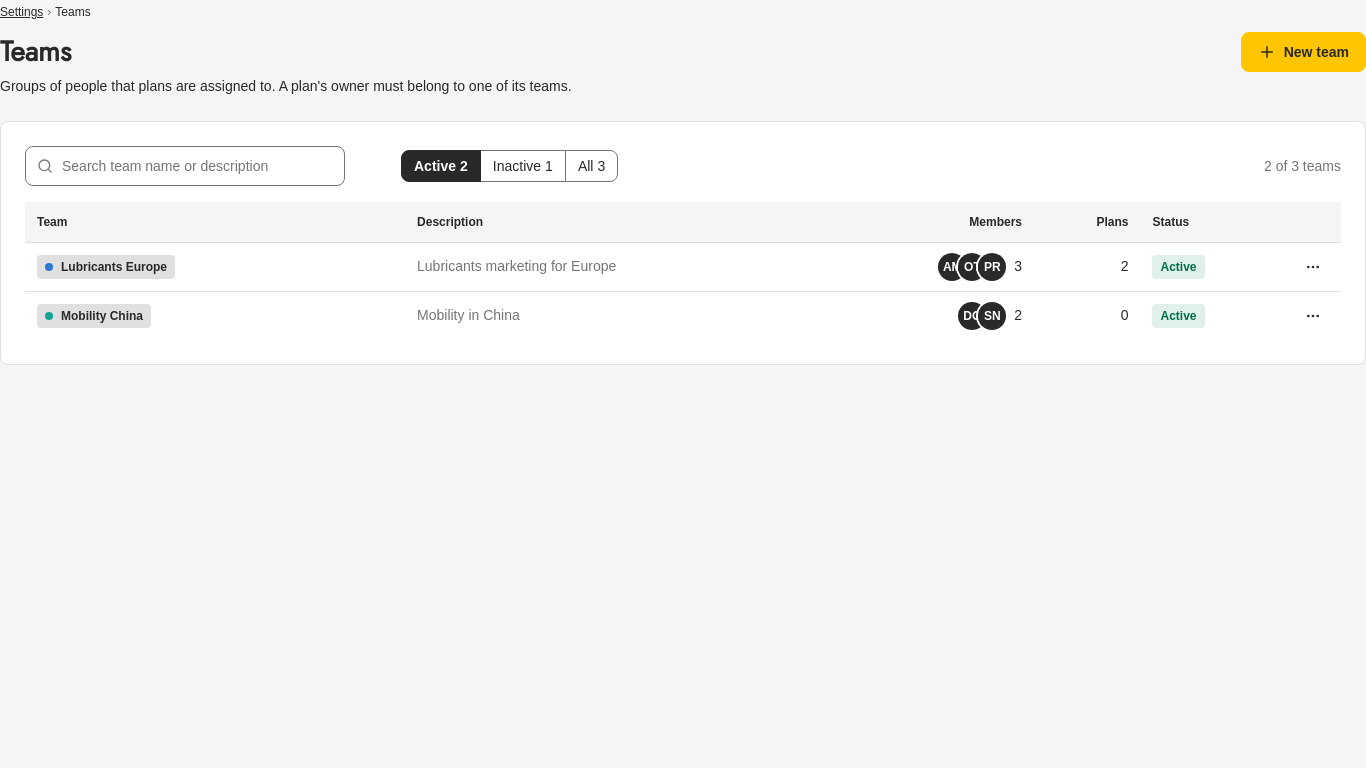
Test: TeamsPage (feature 003, US2): New team and Edit team › shows a taken name at the field and in the summary (US2-4)
Click the button named "Actions for Mobility China" at (1313, 316), box [1297, 300, 1329, 332]
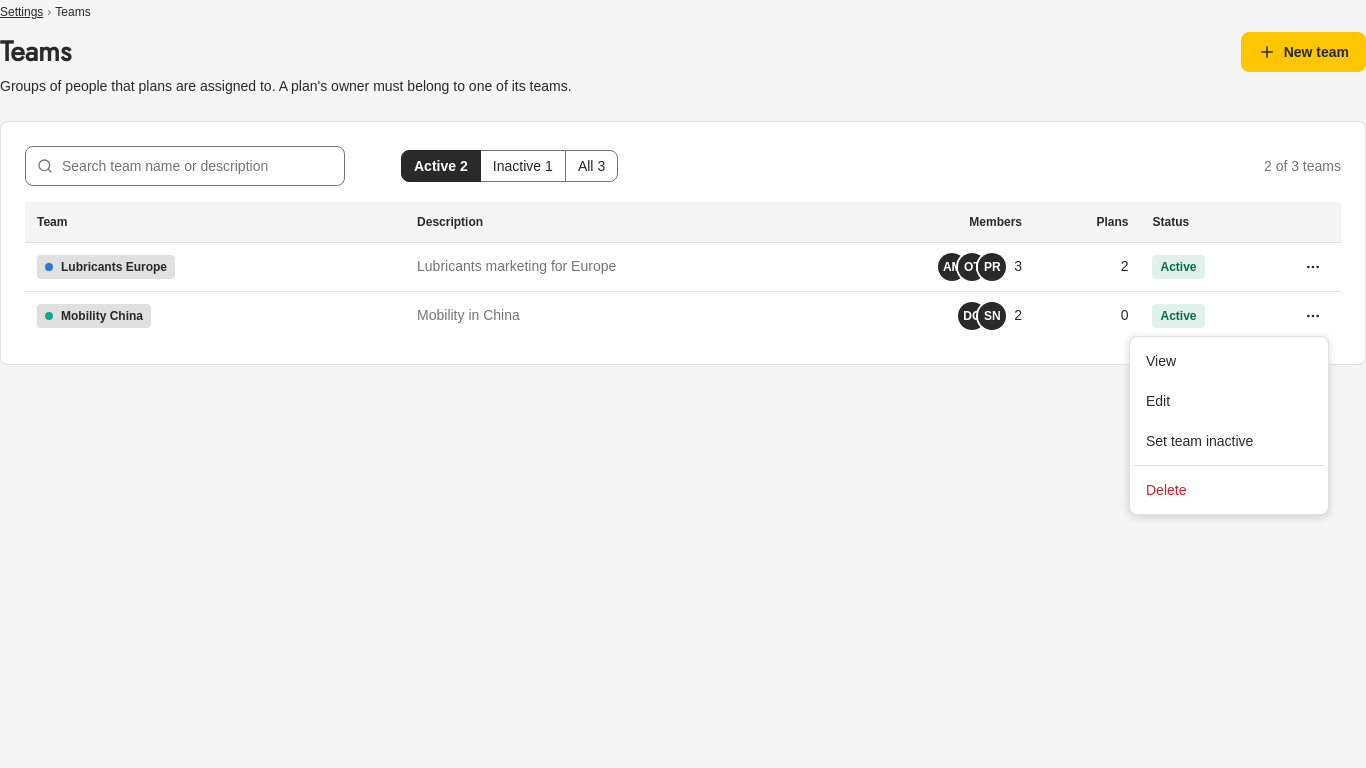
Click the menu item "Edit" at (1158, 401), box [1146, 393, 1170, 409]
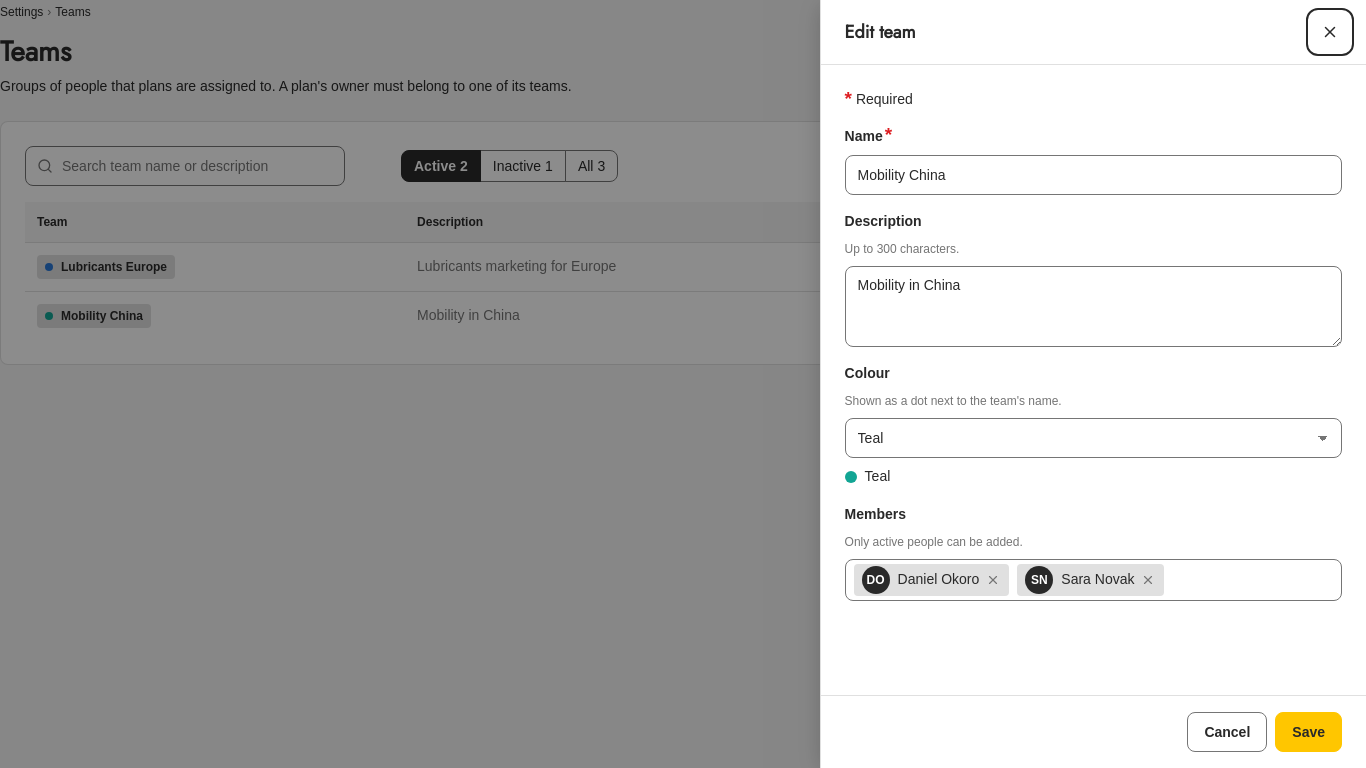
Replace the text in the field labelled "Name" with "lubricants europe" at (1093, 175), box [845, 155, 1342, 195]
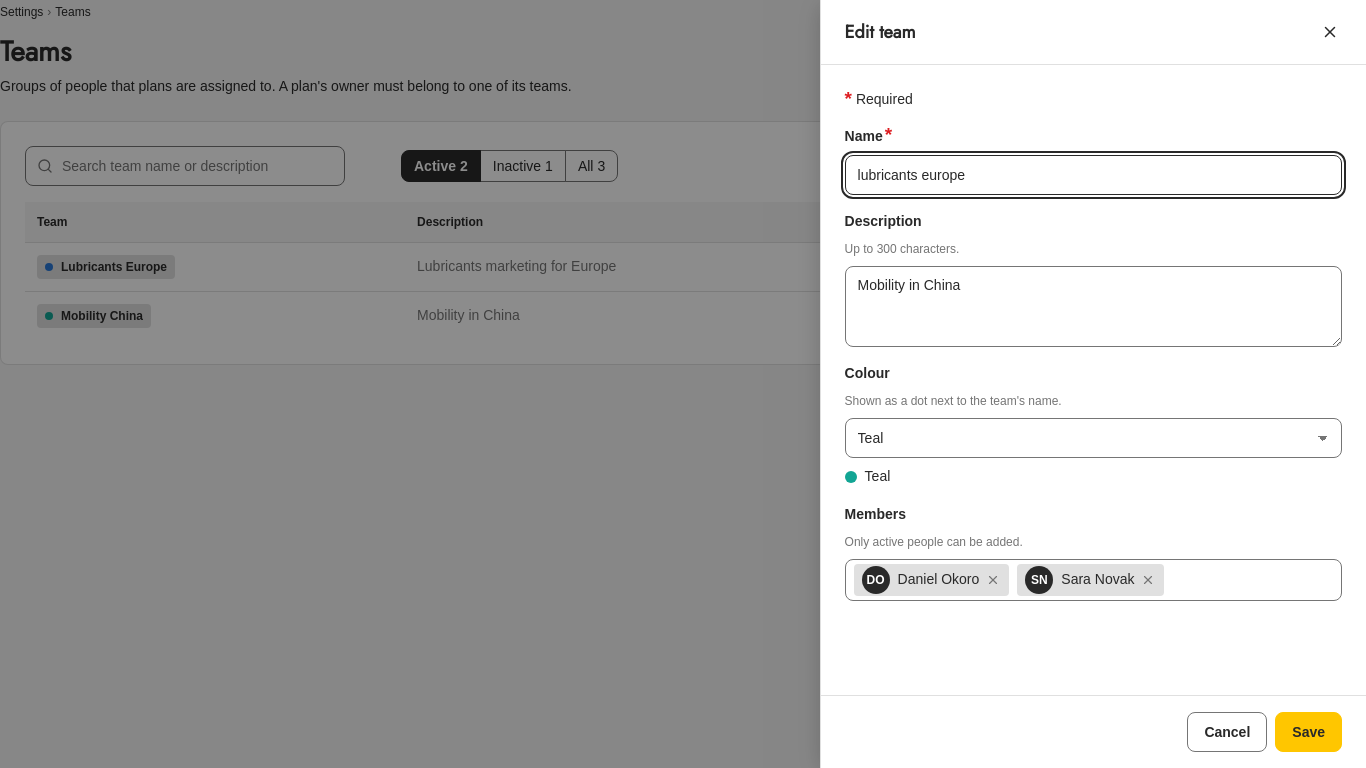
Click the button "Save" at (1309, 732), box [1275, 712, 1342, 752]
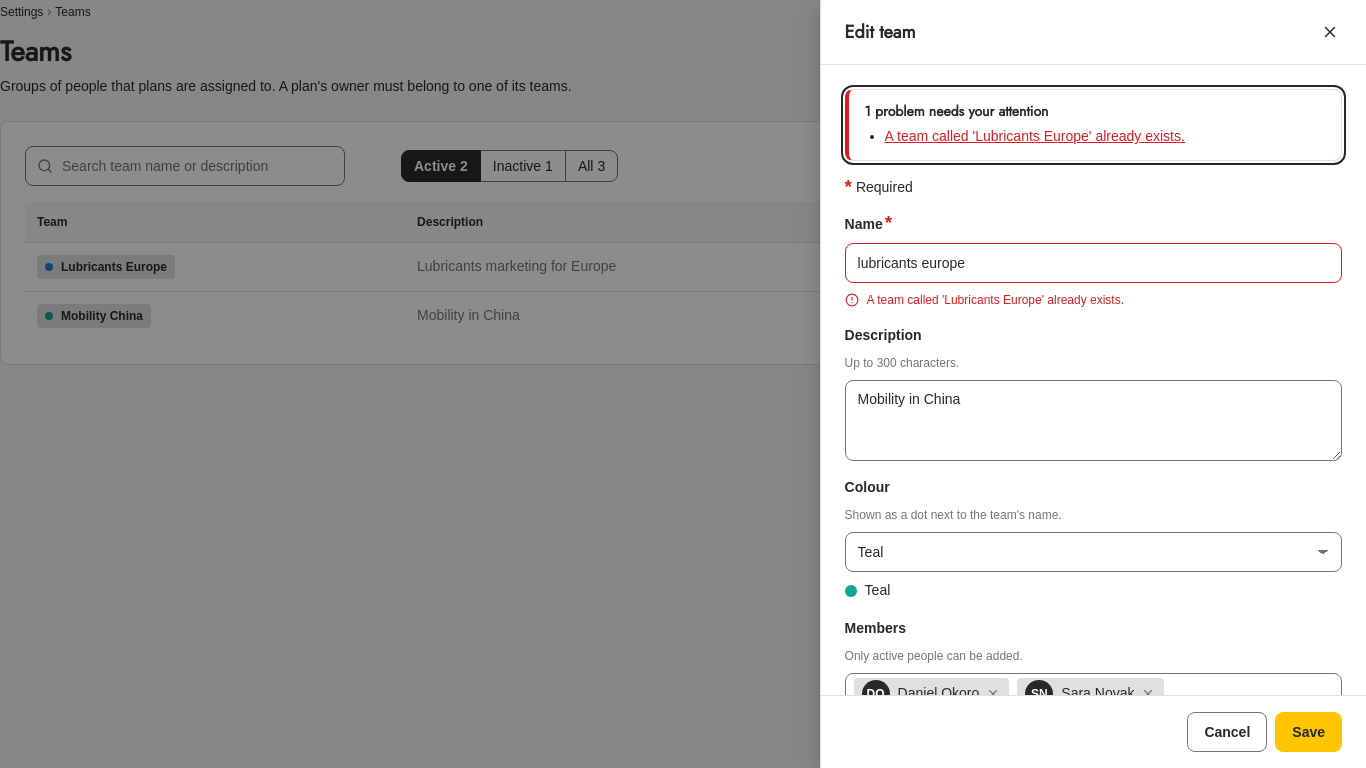
Result: the number of links "A team called 'Lubricants Europe' already exists." is 2 at [885, 124, 1185, 148]; [845, 293, 1124, 307]
